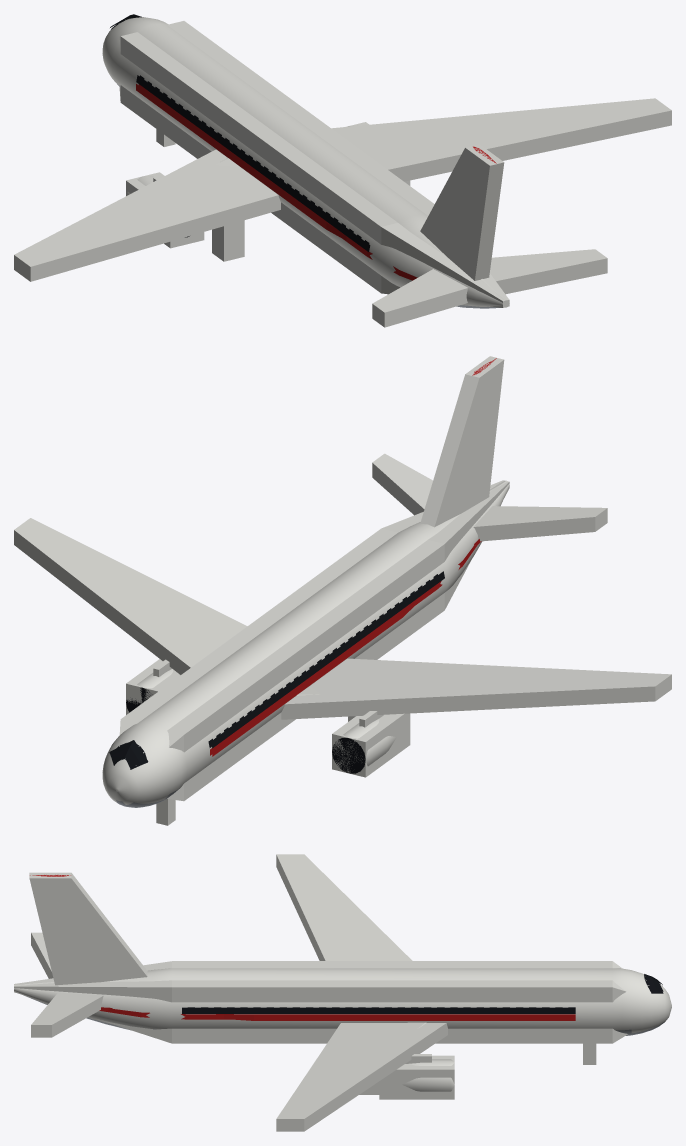
Rendered from bne_ac_narrow_red.dae.
3 views of the same model, one above another, from view 1: azimuth 30°, elevation 25°; view 2: azimuth 150°, elevation 25°; view 3: azimuth 270°, elevation 25° (orthographic). The views are drawn at different scales.
Visible parts, largest first — view 1: Colmesh_bne_ac_narrow_red-1, bne_ac_narrow_red160, bne_ac_narrow_red16; view 2: Colmesh_bne_ac_narrow_red-1, bne_ac_narrow_red160, bne_ac_narrow_red16; view 3: Colmesh_bne_ac_narrow_red-1, bne_ac_narrow_red160, bne_ac_narrow_red16.
Boxes of the visible parts, x1,y1,x2,y2 form: Colmesh_bne_ac_narrow_red-1: [14, 21, 671, 327]; bne_ac_narrow_red160: [14, 16, 508, 318]; bne_ac_narrow_red16: [109, 14, 508, 307]; Colmesh_bne_ac_narrow_red-1: [14, 356, 671, 825]; bne_ac_narrow_red160: [102, 358, 671, 807]; bne_ac_narrow_red16: [109, 481, 504, 791]; Colmesh_bne_ac_narrow_red-1: [14, 854, 627, 1131]; bne_ac_narrow_red160: [14, 875, 671, 1126]; bne_ac_narrow_red16: [16, 972, 663, 1033].
Size of the model in its own units: 35.8 by 37.6 by 11.8.
